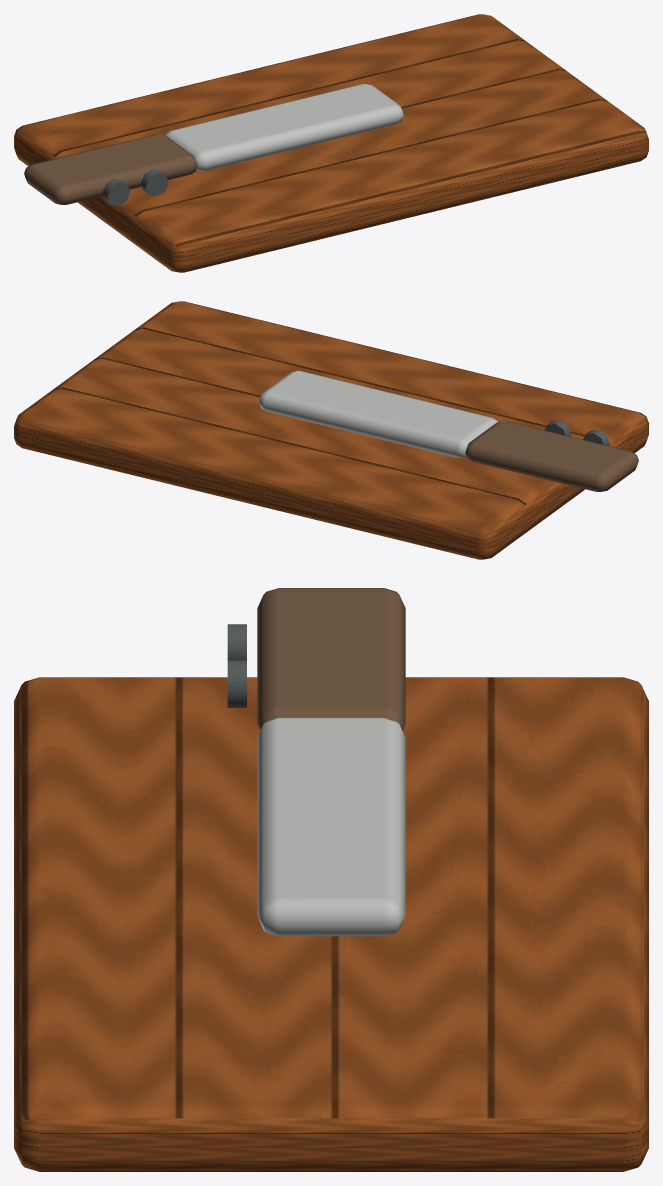
The model's file is adventurers-tavern-and-guild-hall-cutting-board-with-k-2bfa3e40__24727.glb.
3 views of the same model, one above another, from view 1: azimuth 30°, elevation 25°; view 2: azimuth 150°, elevation 25°; view 3: azimuth 270°, elevation 25° (orthographic). The views are drawn at different scales.
Visible parts, largest first — view 1: cutting-board-with-knife; view 2: cutting-board-with-knife; view 3: cutting-board-with-knife.
Boxes of the visible parts, bbox=[...] form: cutting-board-with-knife: bbox=[14, 14, 648, 272]; cutting-board-with-knife: bbox=[14, 301, 648, 559]; cutting-board-with-knife: bbox=[14, 588, 648, 1171].
Bounding box in the file's own units: 0.555 × 0.057 × 0.3.
4 materials, 1 textured.
